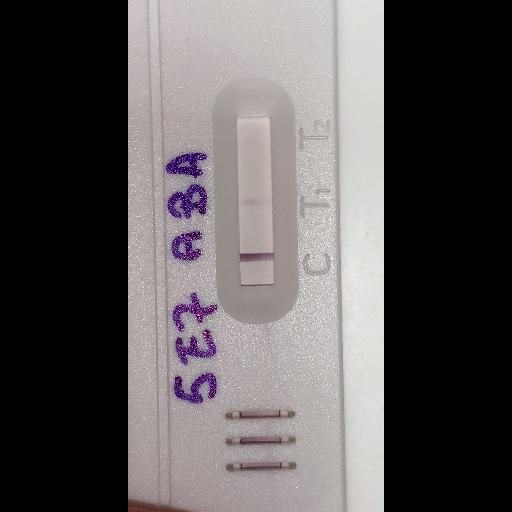Pos: (128, 0, 345, 507)
